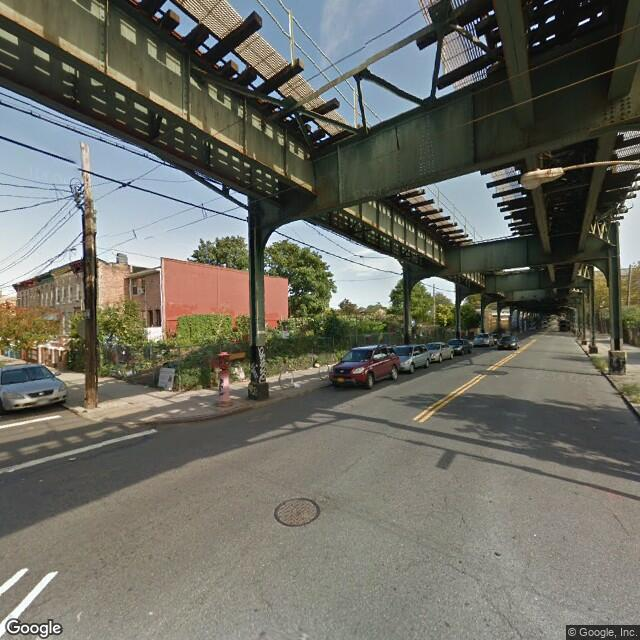litter: (66, 454, 78, 461), (292, 381, 300, 387)
